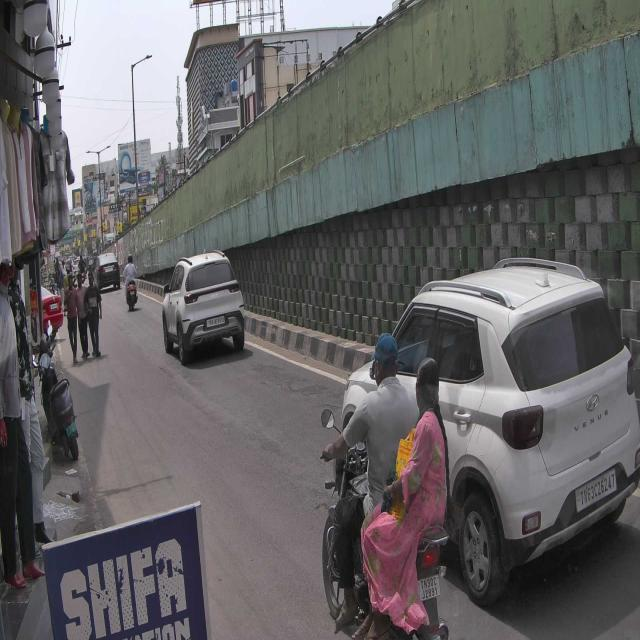double_rider: (320, 332, 450, 640)
